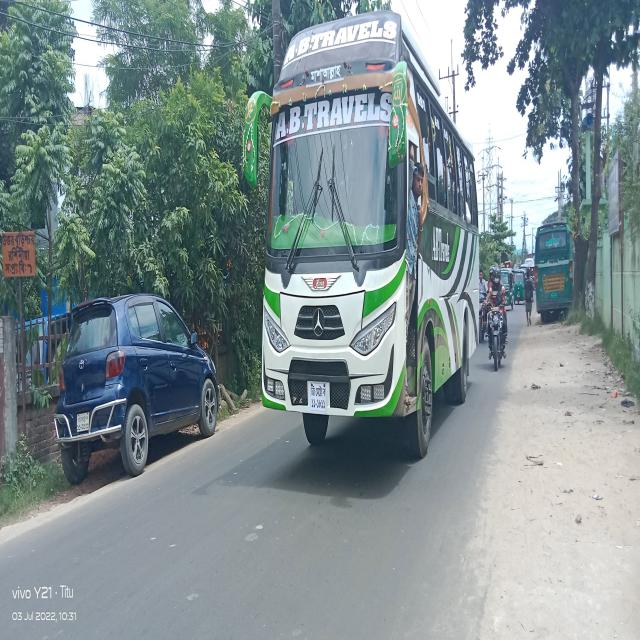bus: (241, 7, 483, 456)
